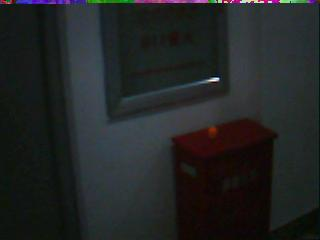oball: (208, 126, 219, 135)
